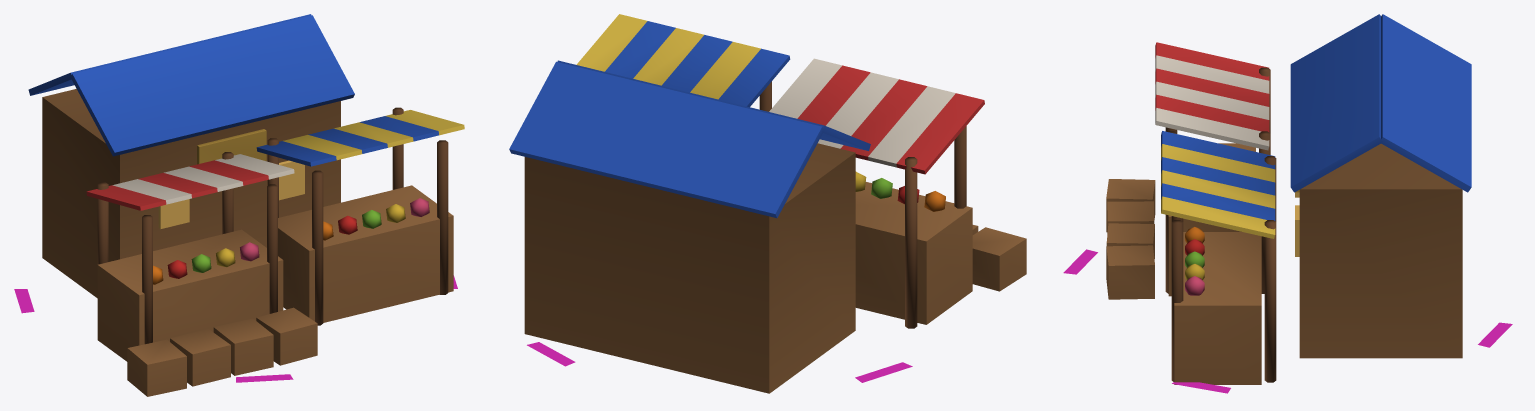
The model's file is piata.glb.
3 renders of one model, left to right at view 1: azimuth 30°, elevation 25°; view 2: azimuth 150°, elevation 25°; view 3: azimuth 270°, elevation 25°, orthographic. The views are drawn at different scales.
Parts seen in each view (by area): view 1: Corp, Lumina, Marcaj_PLACEHOLDER; view 2: Corp, Marcaj_PLACEHOLDER; view 3: Corp, Marcaj_PLACEHOLDER.
Boxes of the visible parts, x1,y1,x2,y2 form: Corp: (28, 14, 464, 396); Lumina: (158, 160, 304, 228); Marcaj_PLACEHOLDER: (14, 275, 457, 382); Corp: (509, 14, 1026, 393); Marcaj_PLACEHOLDER: (527, 342, 912, 382); Corp: (1106, 14, 1471, 384); Marcaj_PLACEHOLDER: (1063, 249, 1512, 393).
Size of the model in its own units: 4 by 2.14 by 4.
